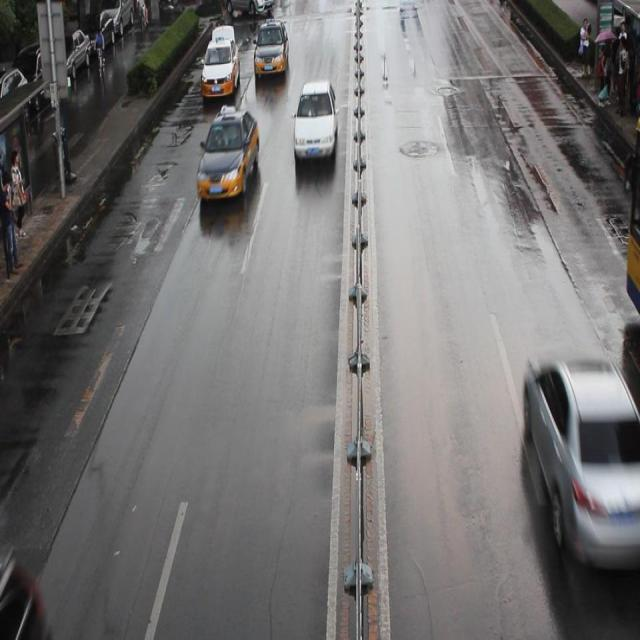car: (523, 353, 640, 567), (196, 104, 258, 200), (292, 80, 337, 161), (200, 37, 240, 98), (253, 21, 288, 76), (219, 1, 275, 14)
van: (623, 148, 640, 318)
